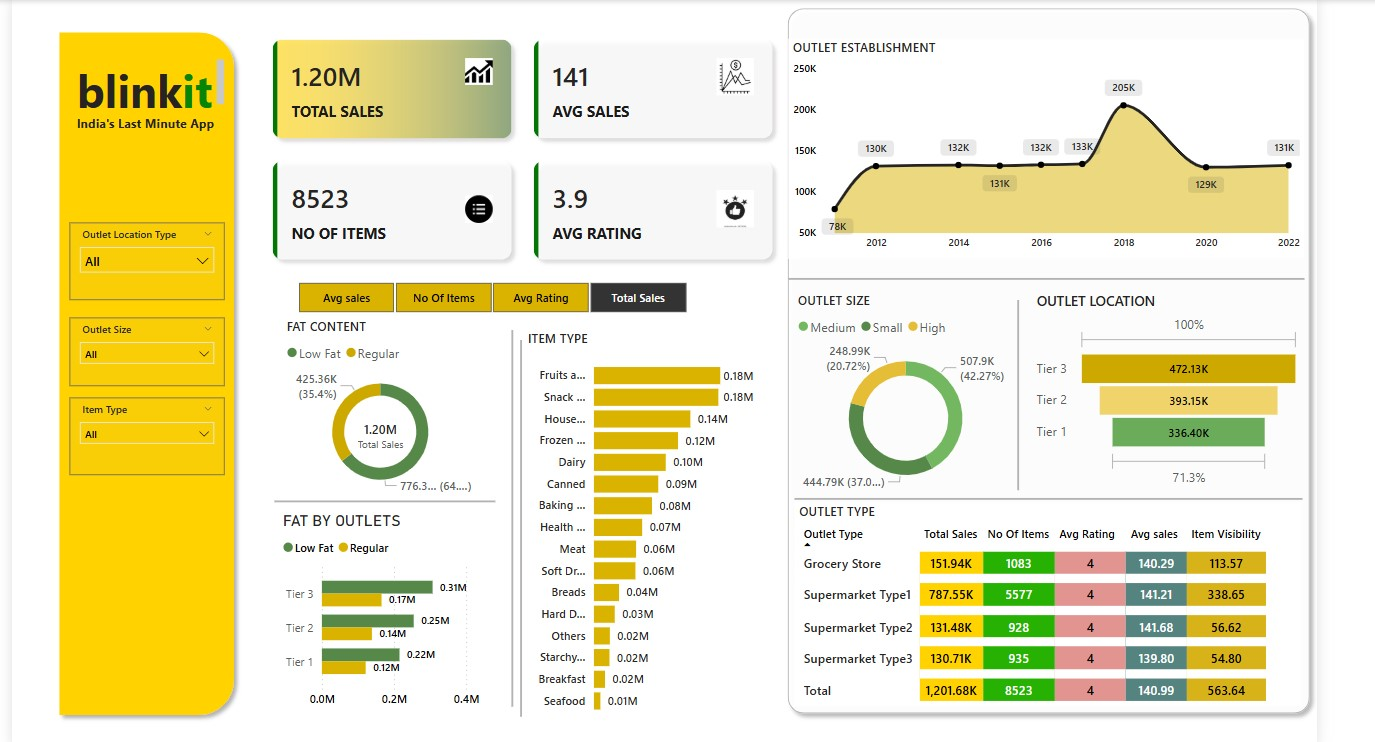

What the dashboard file says about the page in this screenshot:
{"tool":"powerbi","page":{"name":"Page 1","canvas":[1400,800],"ordinal":0},"visuals":[{"type":"shape","box":[42,25.5,205.6,750.4],"z":0},{"type":"textbox","box":[64.5,58.5,168.1,72],"z":1000},{"type":"textbox","box":[296,26,206,417],"z":2000},{"type":"textbox","box":[64.5,118.6,168.1,33],"z":3000},{"type":"cardVisual","fields":{"Data":["BlinkIT Grocery Data.Total Sales","BlinkIT Grocery Data.Avg sales","BlinkIT Grocery Data.No Of Items","BlinkIT Grocery Data.Avg Rating"]},"box":[262.7,25.5,570.3,270.2],"z":4000},{"type":"shape","box":[822.5,0,577.8,774.4],"z":5000},{"type":"donutChart","title":"FAT CONTENT","fields":{"Y":["BlinkIT Grocery Data.Total Sales"],"Category":["BlinkIT Grocery Data.Item Fat Content"]},"box":[289.7,340.7,211.6,198.1],"z":6000},{"type":"slicer","fields":{"Values":["Matrix.Matrix"]},"box":[282.2,295.7,465.3,45],"z":7000},{"type":"cardVisual","fields":{"Data":["BlinkIT Grocery Data.Total Sales"]},"box":[351.2,429.2,88.6,76.5],"z":8000},{"type":"clusteredBarChart","title":"FAT BY OUTLETS","fields":{"Y":["BlinkIT Grocery Data.Total Sales"],"Category":["BlinkIT Grocery Data.Outlet Location Type"],"Series":["BlinkIT Grocery Data.Item Fat Content"]},"box":[285.5,548.3,221.2,219.8],"z":9000},{"type":"shape","box":[282.2,516.3,237.1,43.5],"z":10000},{"type":"shape","box":[501.3,354.2,70.5,403.7],"z":11000},{"type":"barChart","title":"ITEM TYPE","fields":{"Y":["BlinkIT Grocery Data.Total Sales"],"Category":["BlinkIT Grocery Data.Item Type"]},"box":[547.8,354.2,252.1,421.7],"z":12000},{"type":"lineChart","title":"OUTLET ESTABLISHMENT","fields":{"Y":["BlinkIT Grocery Data.Total Sales"],"Category":["BlinkIT Grocery Data.Outlet Establishment Year"]},"box":[833,42,553.8,235.6],"z":13000},{"type":"shape","box":[511.3,364.2,70.5,403.7],"z":14000},{"type":"shape","box":[1067.1,321.2,24,204.1],"z":15000},{"type":"shape","box":[833,277.7,553.8,43.5],"z":16000},{"type":"donutChart","title":"OUTLET SIZE","fields":{"Y":["BlinkIT Grocery Data.Total Sales"],"Category":["BlinkIT Grocery Data.Outlet Size"]},"box":[837.5,312.2,241.6,225.1],"z":17000},{"type":"funnel","title":"OUTLET LOCATION","fields":{"Category":["BlinkIT Grocery Data.Outlet Location Type"],"Y":["Sum(BlinkIT Grocery Data.Sales)"]},"box":[1094.1,312.2,292.7,214.6],"z":18000},{"type":"shape","box":[839,513.3,544.8,43.5],"z":19000},{"type":"pivotTable","title":"OUTLET TYPE","fields":{"Rows":["BlinkIT Grocery Data.Outlet Type"],"Values":["BlinkIT Grocery Data.Total Sales","BlinkIT Grocery Data.No Of Items","BlinkIT Grocery Data.Avg Rating","BlinkIT Grocery Data.Avg sales","Sum(BlinkIT Grocery Data.Item Visibility)"]},"box":[839.1,538.9,544.2,218.5],"z":20000},{"type":"slicer","fields":{"Values":["BlinkIT Grocery Data.Outlet Location Type"]},"box":[61.7,238.6,166.2,83.1],"z":20001},{"type":"slicer","fields":{"Values":["BlinkIT Grocery Data.Outlet Size"]},"box":[61.7,340.5,166.2,73.7],"z":20002},{"type":"slicer","fields":{"Values":["BlinkIT Grocery Data.Item Type"]},"box":[61.7,426.3,166.2,83.1],"z":20003}]}

Visuals, with their boxes on the page's 1400x800 design canvas (x1, y1, x2, y2). These are canvas units, not pixel positions in the 1375x742 screenshot, which may show the page scaled, cropped or inside an application window:
shape: <box>42,26,248,776</box>
textbox: <box>64,58,233,130</box>
textbox: <box>296,26,502,443</box>
textbox: <box>64,119,233,152</box>
cardVisual - BlinkIT Grocery Data.Total Sales x BlinkIT Grocery Data.Avg sales: <box>263,26,833,296</box>
shape: <box>822,0,1400,774</box>
"FAT CONTENT" donutChart: <box>290,341,501,539</box>
slicer - Matrix.Matrix: <box>282,296,748,341</box>
cardVisual - BlinkIT Grocery Data.Total Sales: <box>351,429,440,506</box>
"FAT BY OUTLETS" clusteredBarChart: <box>286,548,507,768</box>
shape: <box>282,516,519,560</box>
shape: <box>501,354,572,758</box>
"ITEM TYPE" barChart: <box>548,354,800,776</box>
"OUTLET ESTABLISHMENT" lineChart: <box>833,42,1387,278</box>
shape: <box>511,364,582,768</box>
shape: <box>1067,321,1091,525</box>
shape: <box>833,278,1387,321</box>
"OUTLET SIZE" donutChart: <box>838,312,1079,537</box>
"OUTLET LOCATION" funnel: <box>1094,312,1387,527</box>
shape: <box>839,513,1384,557</box>
"OUTLET TYPE" pivotTable: <box>839,539,1383,757</box>
slicer - BlinkIT Grocery Data.Outlet Location Type: <box>62,239,228,322</box>
slicer - BlinkIT Grocery Data.Outlet Size: <box>62,340,228,414</box>
slicer - BlinkIT Grocery Data.Item Type: <box>62,426,228,509</box>
